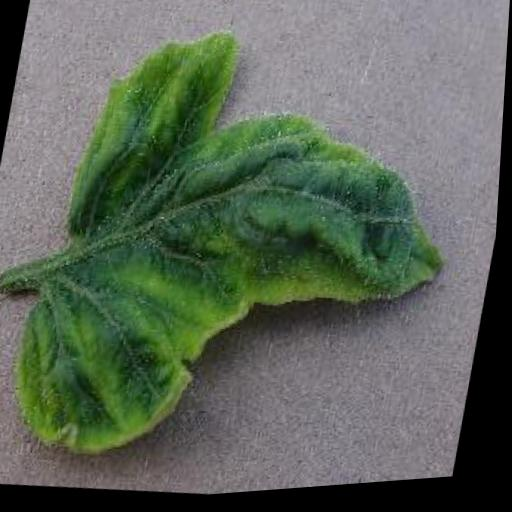Yellow Leaf Curl Virus: (3, 7, 489, 499)
